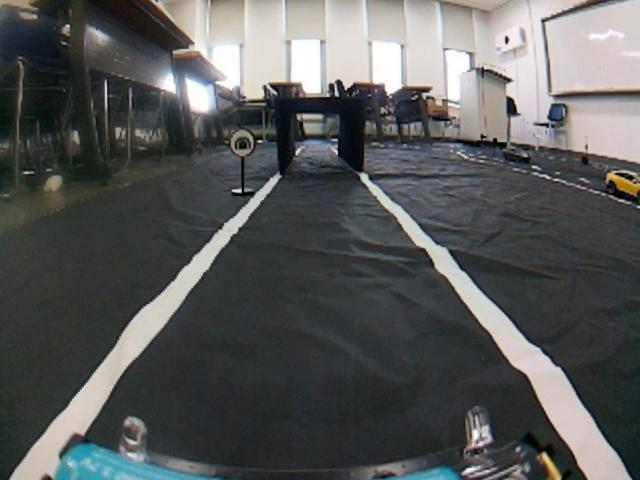sign_tunnel: (215, 124, 267, 161)
straight: (21, 217, 640, 453)
